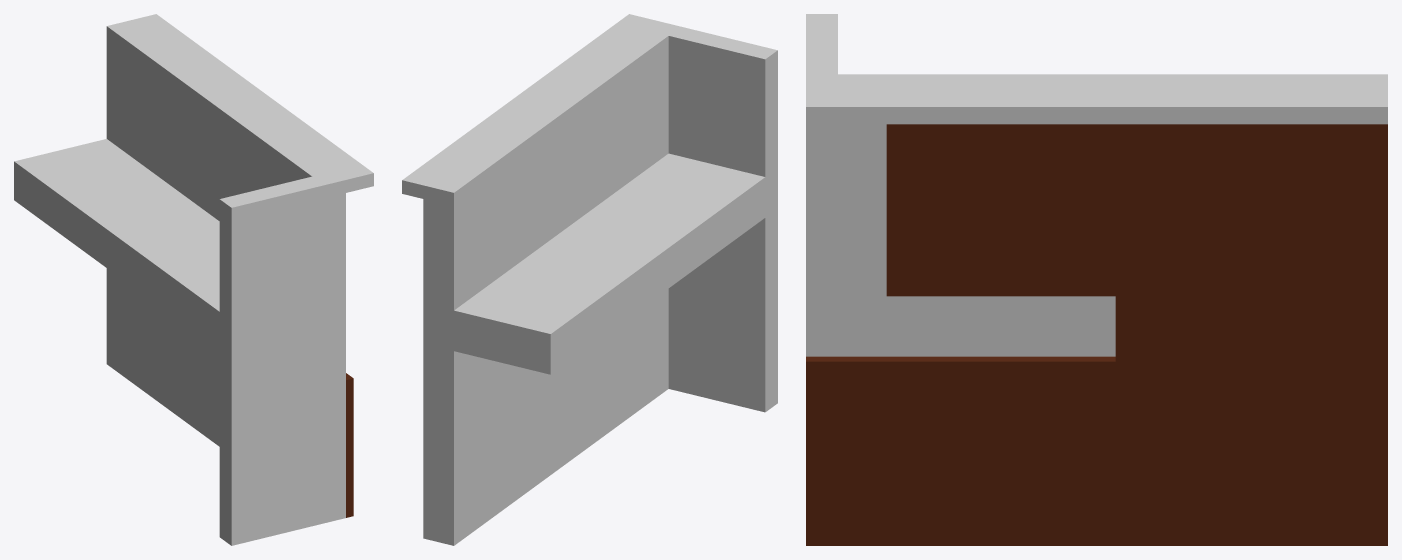
Rendered from Escritorio Recepcion.FBX.
3 renders of one model, left to right at view 1: azimuth 30°, elevation 25°; view 2: azimuth 150°, elevation 25°; view 3: azimuth 270°, elevation 25°, orthographic. The views are drawn at different scales.
Visible parts, largest first — view 1: Escritorio Recepcion; view 2: Escritorio Recepcion; view 3: Escritorio Recepcion.
Part boxes in pixels (bbox=[...]): Escritorio Recepcion: bbox=[14, 14, 373, 545]; Escritorio Recepcion: bbox=[402, 14, 777, 545]; Escritorio Recepcion: bbox=[806, 14, 1387, 545].
Size of the model in its own units: 52.85 by 120 by 140.
